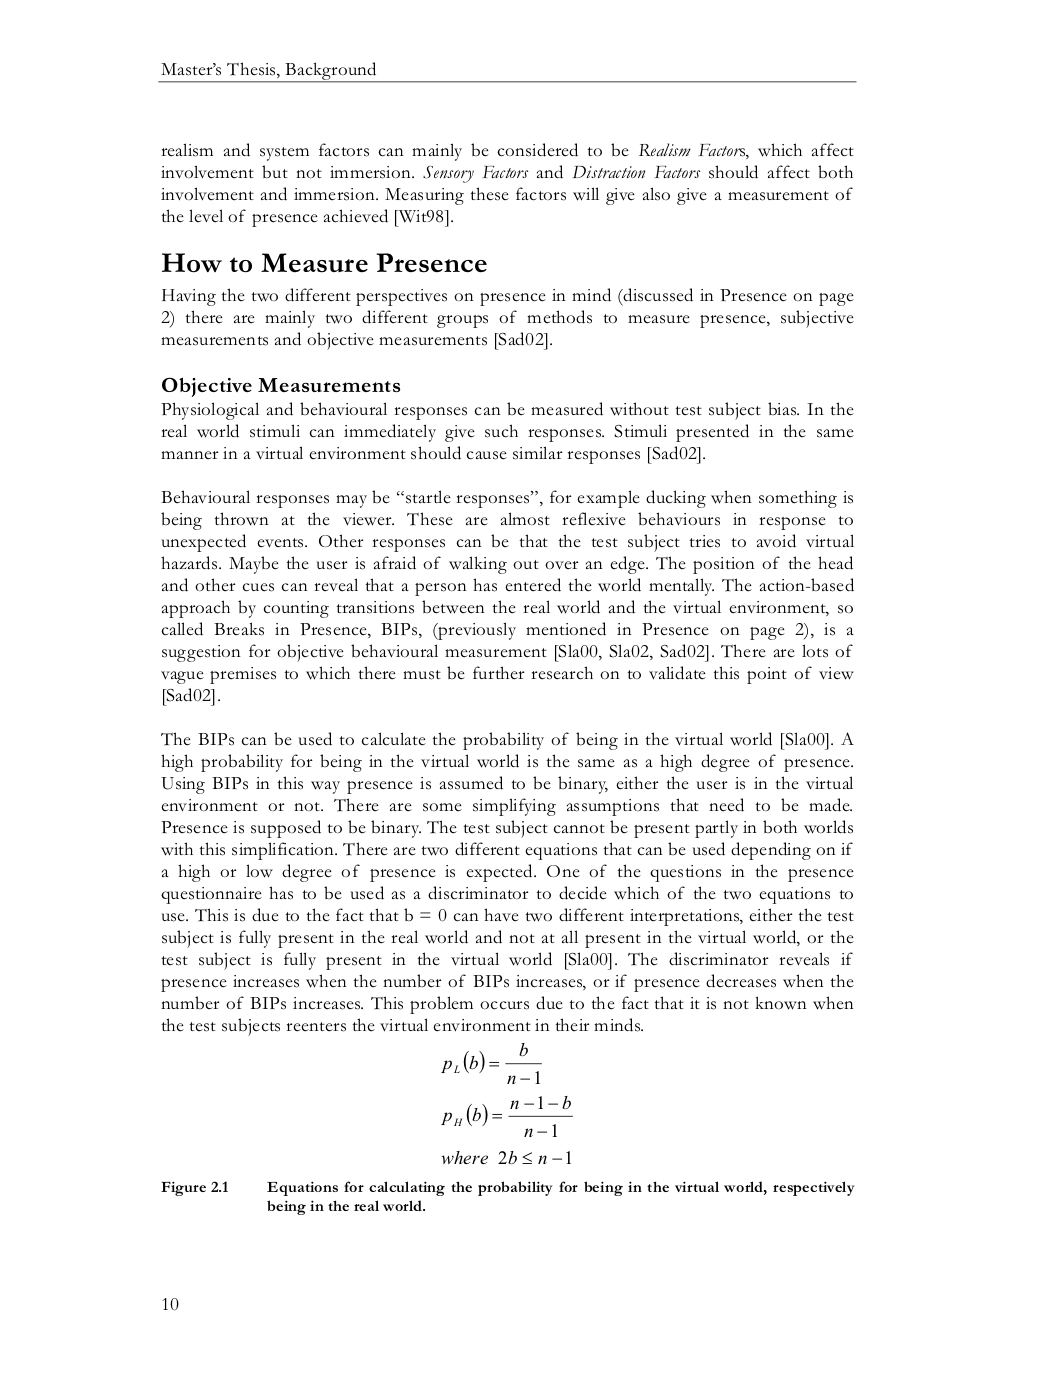formula: (441, 1094, 572, 1138), (441, 1041, 541, 1085), (441, 1149, 571, 1165)
